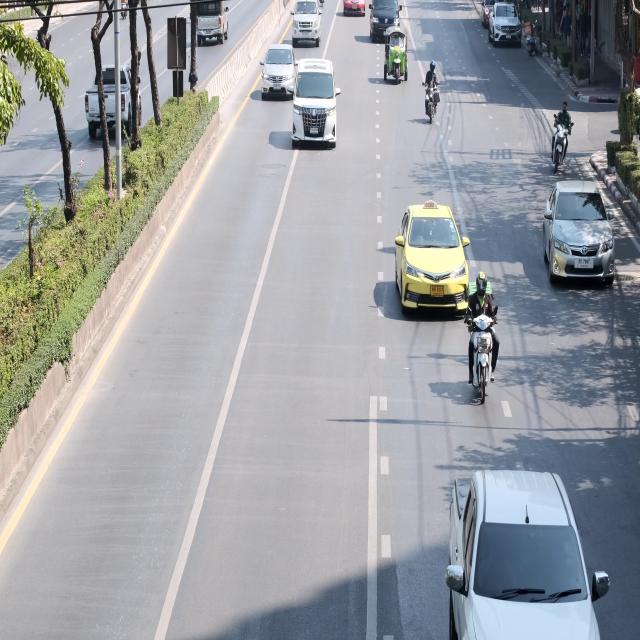cars: (443, 467, 610, 640), (391, 197, 473, 321), (540, 171, 616, 296), (288, 56, 339, 152), (84, 62, 144, 132), (257, 41, 305, 102), (192, 0, 230, 51), (487, 0, 524, 47), (289, 0, 325, 47), (368, 0, 404, 40), (342, 0, 369, 25), (481, 0, 503, 26)
motorcycle: (464, 267, 502, 414), (546, 93, 576, 171), (421, 64, 441, 126), (526, 15, 546, 68), (119, 0, 129, 23)
